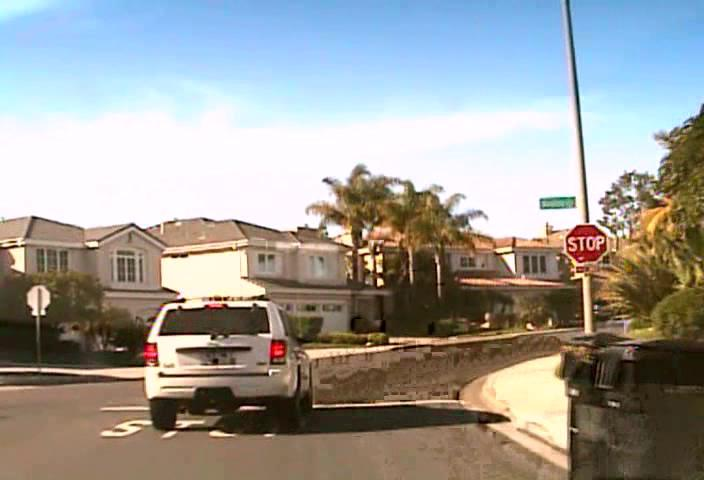stop: (564, 223, 608, 263)
